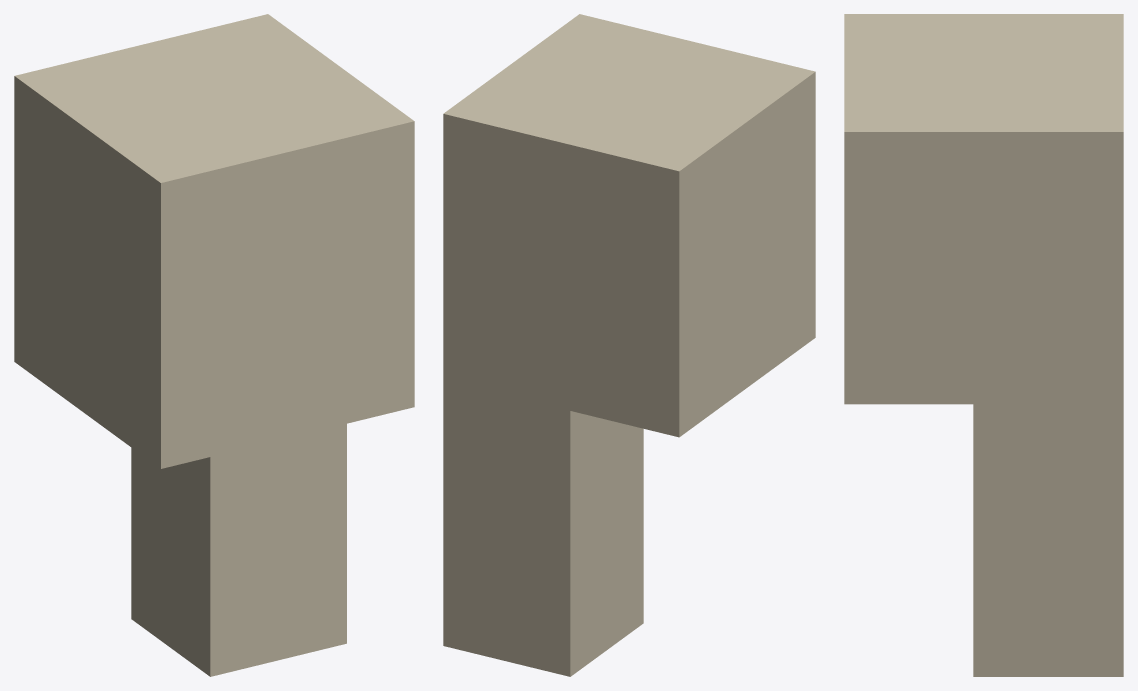
File: cornice_corner.glb
3 renders of one model, left to right at view 1: azimuth 30°, elevation 25°; view 2: azimuth 150°, elevation 25°; view 3: azimuth 270°, elevation 25°, orthographic. The views are drawn at different scales.
Visible parts, largest first — view 1: cornice_corner; view 2: cornice_corner; view 3: cornice_corner.
Part boxes in pixels (x1,y1,x2,y2): cornice_corner: (14, 14, 414, 676); cornice_corner: (443, 14, 815, 676); cornice_corner: (844, 14, 1123, 676).
Size of the model in its own units: 0.065 by 0.14 by 0.065.
1 material, 1 textured.
